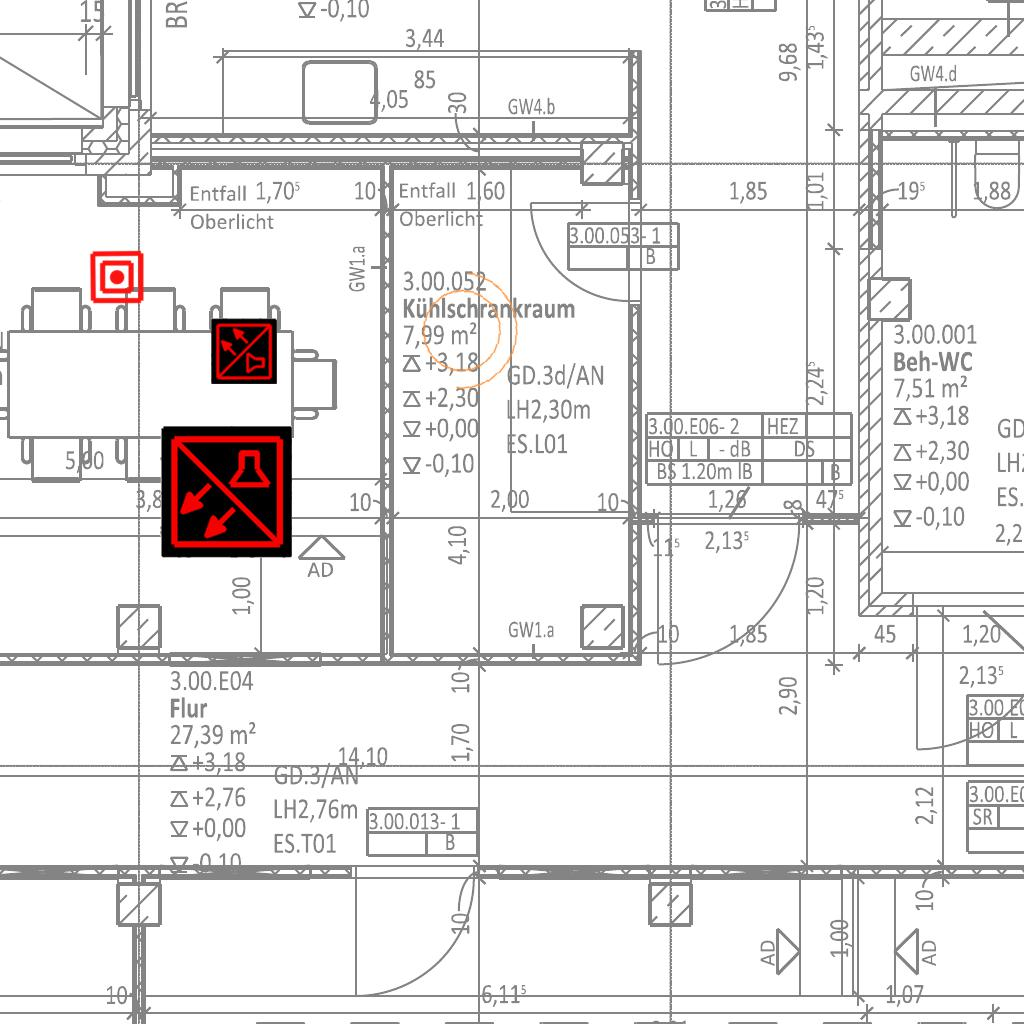NAM-Nichtautomatischer_Melder: (89, 249, 145, 305)
OKW_Multisensormelder_(Kombination_optischer_Rauch-Kahlenmonoxid_Waerme-Melder): (160, 426, 292, 558), (211, 318, 277, 384)
Scheinwerfer_fuer_Alarmbeleuchtung: (404, 256, 530, 400)
